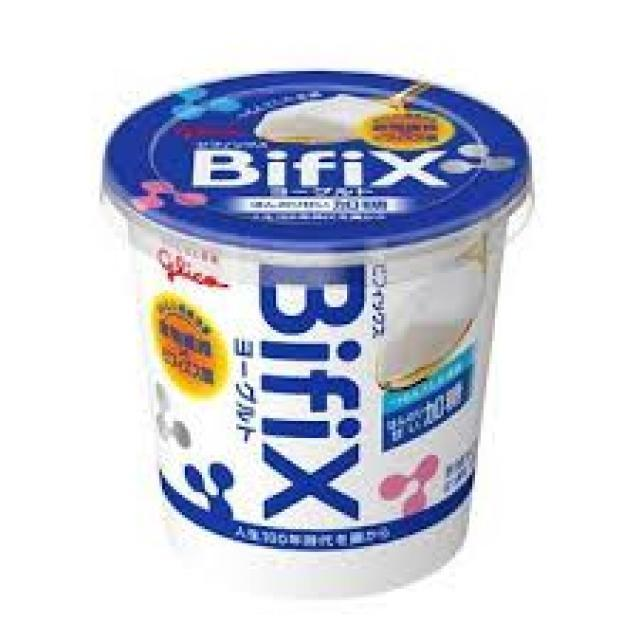Plastic: (102, 63, 529, 600)
